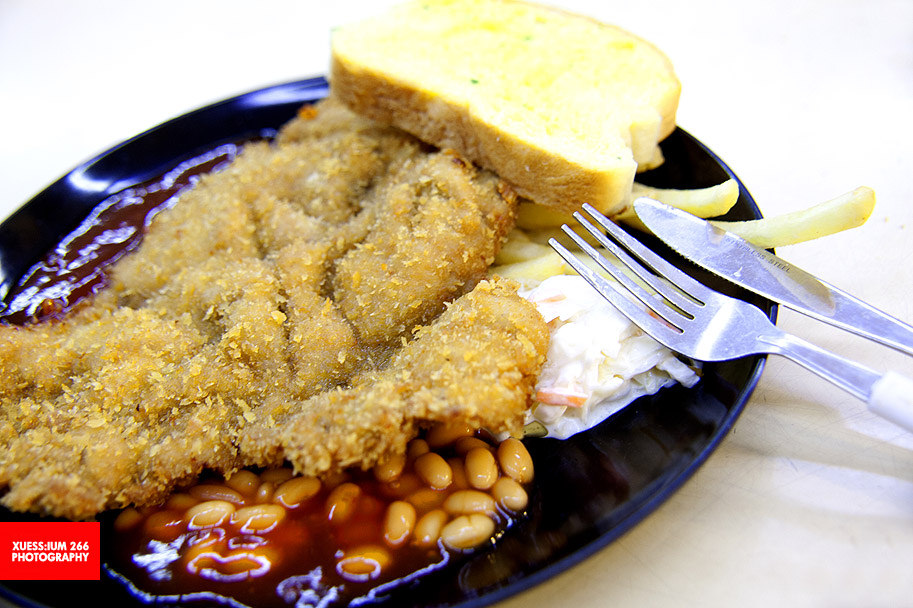slice of bread: (333, 8, 694, 218)
